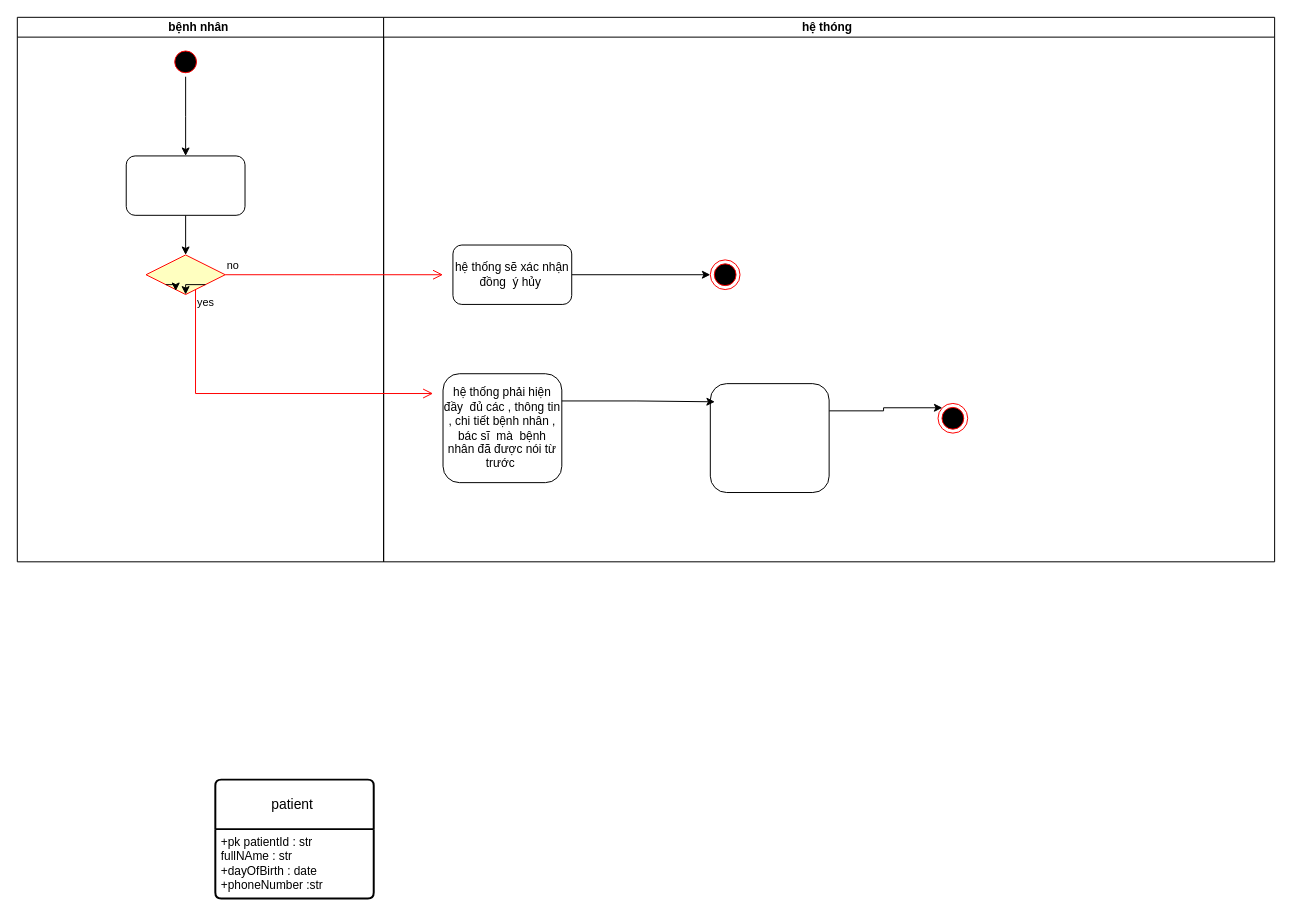
Some shapes in this 1292 by 917 pixel diagram are drawn without their labels. The shapes that lost their labels are listed below. From the top down, each one's centre as x and y in pixels, then its label:
At [185,185]: "xác nhận đặt lịch".
At [185,274]: "có đặ lịch hay không".
At [769,438]: "tạo lịch hẹn, số thư tự dồng thời xác nhận lại hệ thống thông tin của bệnh nhân".
